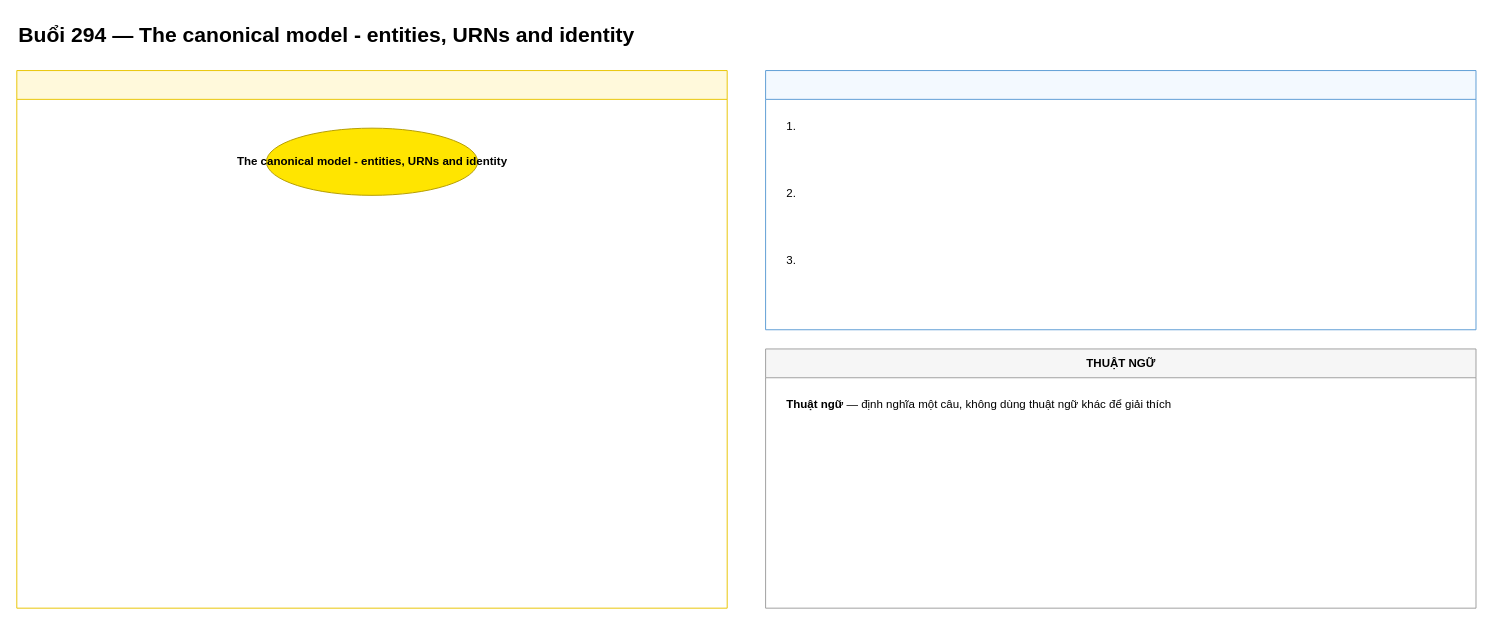
The diagram is 1493 pixels wide and 625 high, and some of its shapes have lost their labels. The shapes that lost their labels are listed below. From the top down, each one's box as (x1, y1, x2, y2) in pixels, then its label:
(765, 70, 1476, 330): KEY TAKEAWAY — ba điều phải nhớ
(16, 70, 727, 608): MINDMAP
